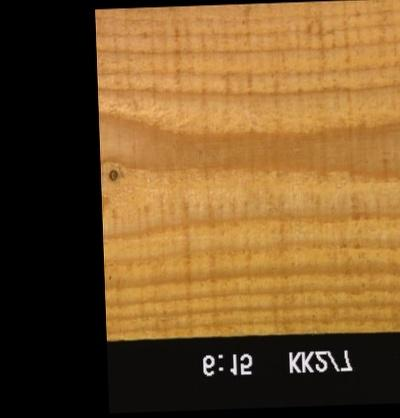dry_knot: (104, 167, 119, 183)
